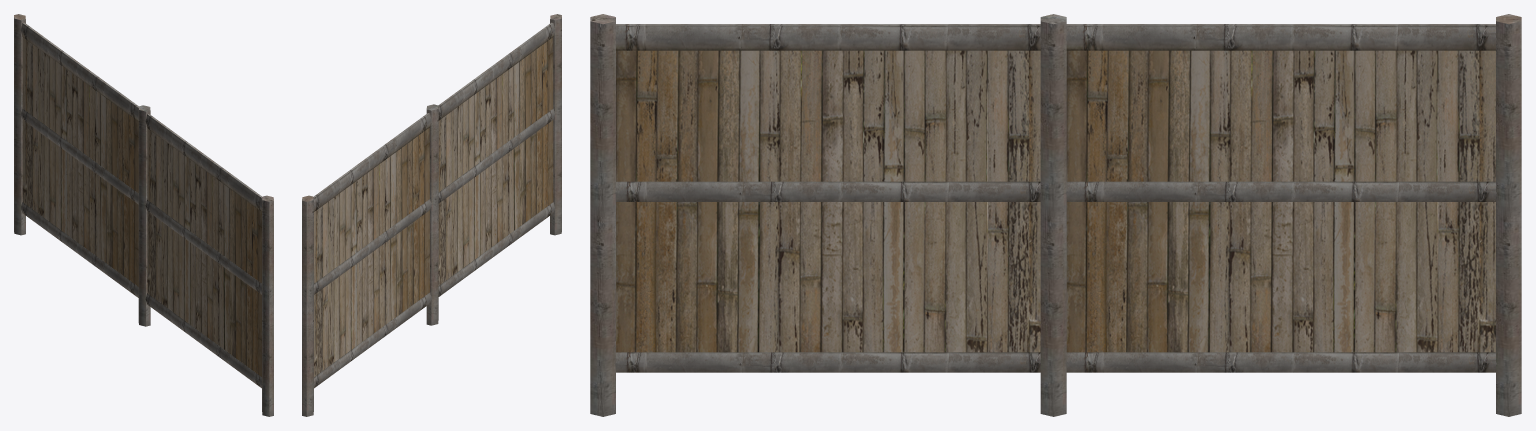
Rendered from BambooFence01b.fbx.
3 renders of one model, left to right at view 1: azimuth 30°, elevation 25°; view 2: azimuth 150°, elevation 25°; view 3: azimuth 270°, elevation 25°, orthographic. The views are drawn at different scales.
Parts seen in each view (by area): view 1: BambooFence01b; view 2: BambooFence01b; view 3: BambooFence01b.
Boxes of the visible parts, bbox=[...] form: BambooFence01b: bbox=[14, 14, 273, 416]; BambooFence01b: bbox=[302, 14, 561, 416]; BambooFence01b: bbox=[590, 14, 1521, 416].
Size of the model in its own units: 0.0655 by 1.17 by 2.51.
